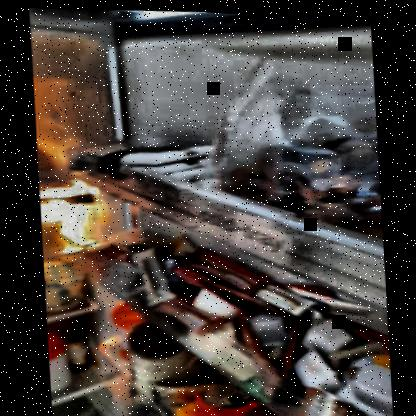chocolate: (80, 136, 212, 184)
dates: (221, 110, 383, 222)
